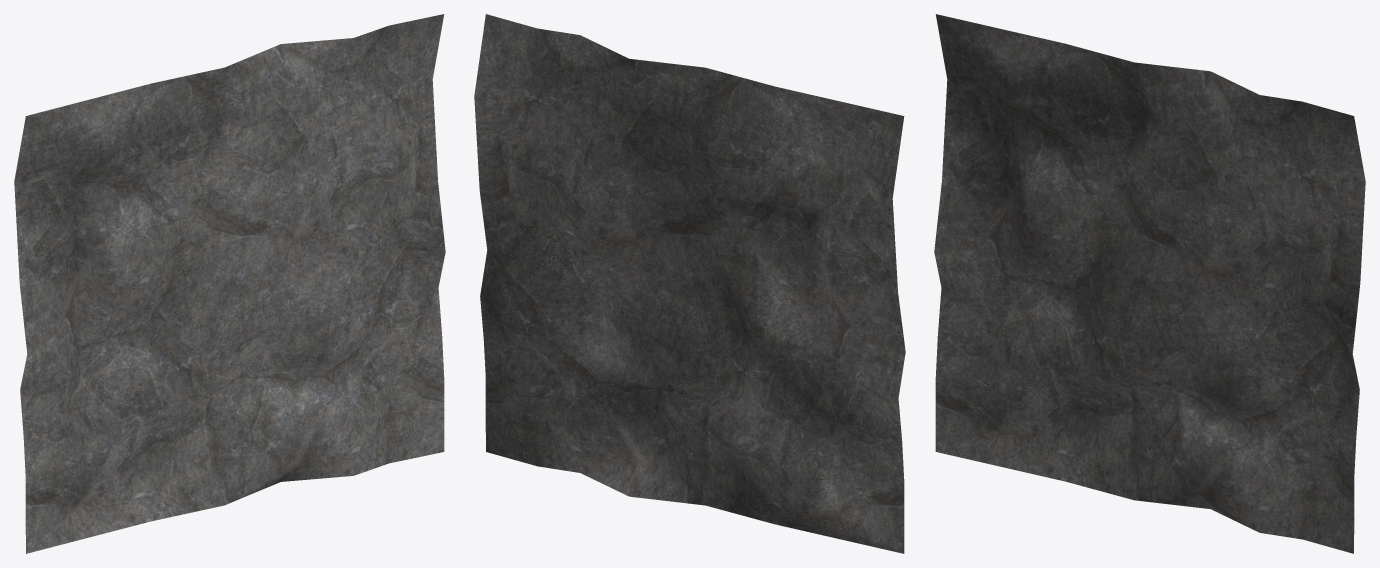
File: RockWall_edit_for_FBX.fbx
3 renders of one model, left to right at view 1: azimuth 30°, elevation 25°; view 2: azimuth 150°, elevation 25°; view 3: azimuth 330°, elevation 25°, orthographic.
Parts seen in each view (by area): view 1: RockWall; view 2: RockWall; view 3: RockWall.
Boxes of the visible parts, box(x1,y1,x2,y2) form: RockWall: box(14, 14, 445, 553); RockWall: box(474, 14, 905, 553); RockWall: box(934, 14, 1365, 553).
Size of the model in its own units: 250 by 250 by 18.62.
